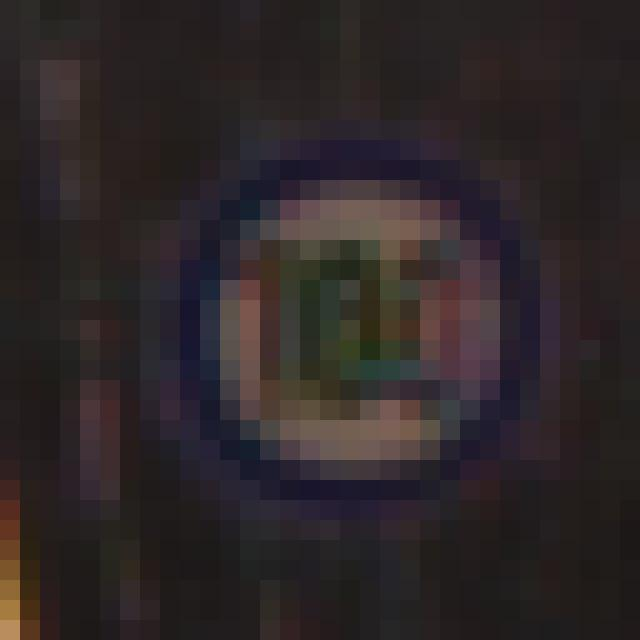SPEED LIMIT 100: (148, 127, 550, 515)
